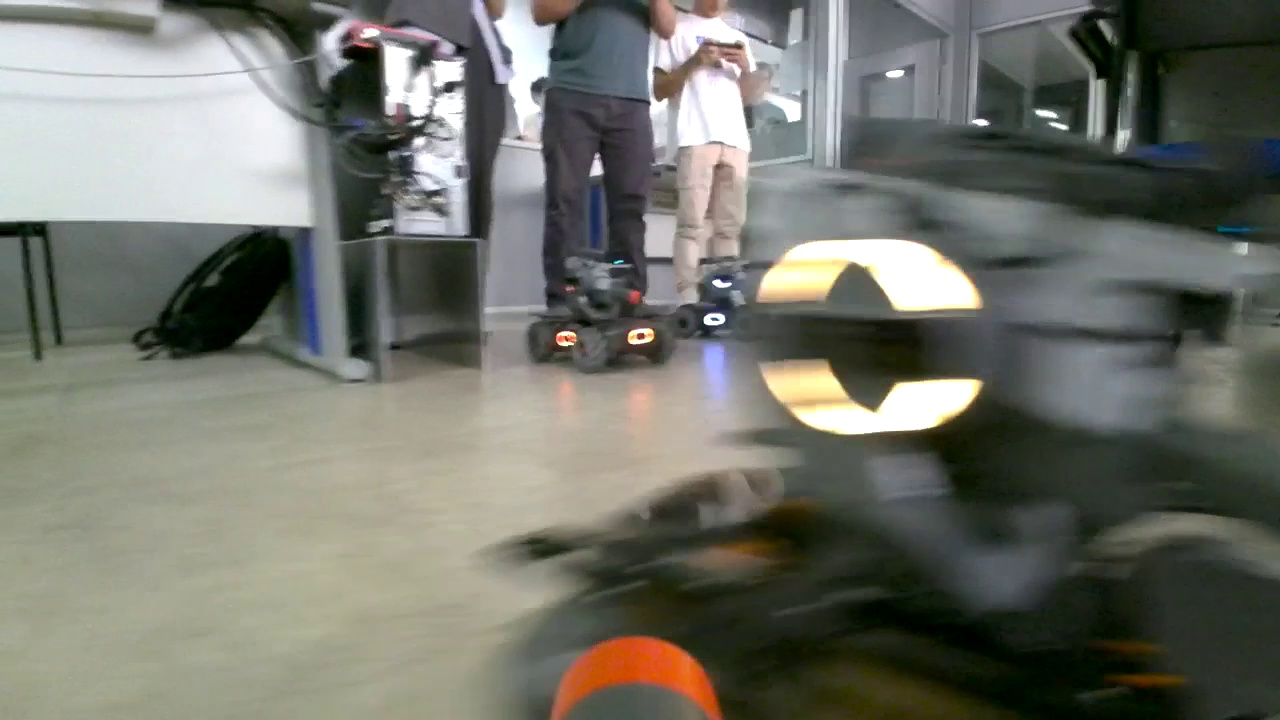robot: (492, 124, 1280, 720), (524, 245, 676, 371), (672, 257, 770, 339)
